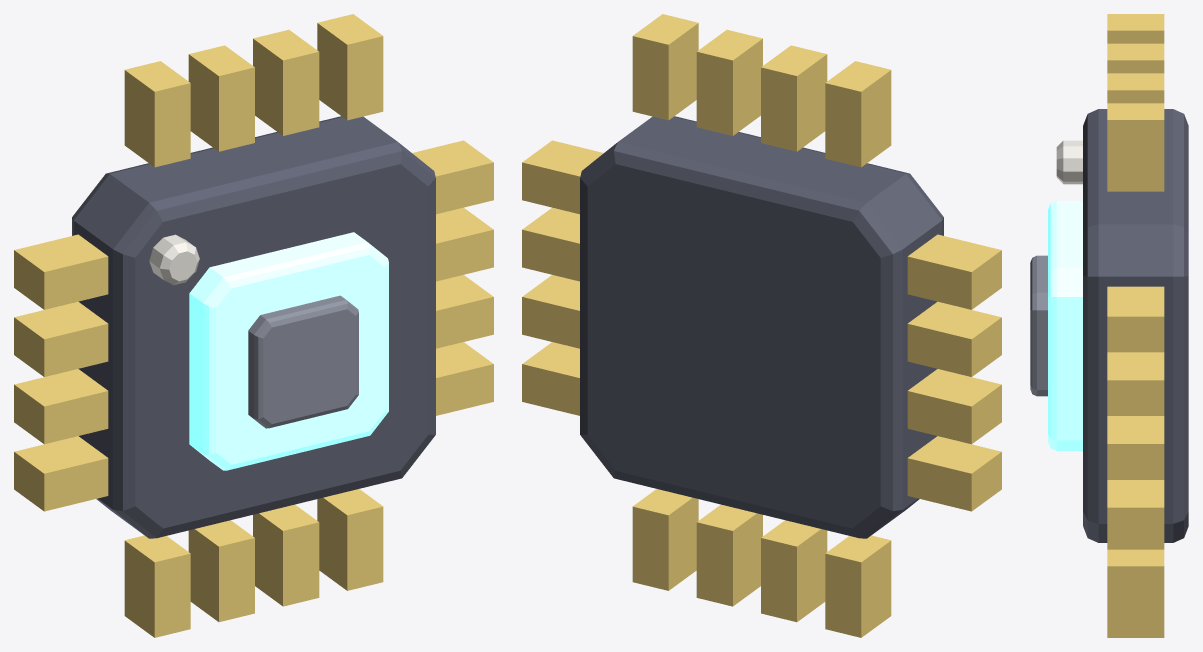
File: game-ui-icon-library-circuit-chip-b8917c1d__19068.glb
3 renders of one model, left to right at view 1: azimuth 30°, elevation 25°; view 2: azimuth 150°, elevation 25°; view 3: azimuth 270°, elevation 25°, orthographic. The views are drawn at different scales.
Parts seen in each view (by area): view 1: circuit-chip; view 2: circuit-chip; view 3: circuit-chip.
Part boxes in pixels (x1,y1,x2,y2): circuit-chip: (14,14,493,637); circuit-chip: (522,14,1001,637); circuit-chip: (1030,14,1188,637).
Bounding box in the file's own units: 0.8099 × 0.94 × 0.2603.
